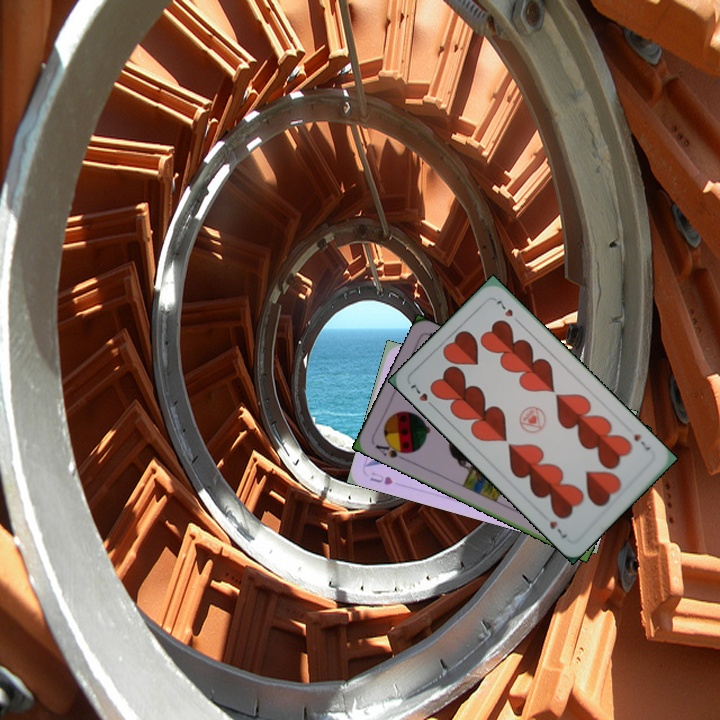H7: (406, 380, 438, 412), (630, 429, 653, 453)
HU: (366, 468, 395, 488)
SA: (371, 437, 411, 463)
